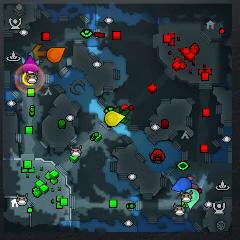p1: (171, 177, 191, 193)
p2: (186, 188, 199, 209)
p3: (23, 56, 39, 74)
p4: (104, 111, 125, 126)
p5: (47, 47, 66, 64)
x1: (188, 176, 198, 189)
x3: (21, 53, 40, 66)
x4: (115, 107, 130, 123)
x5: (32, 44, 47, 61)
